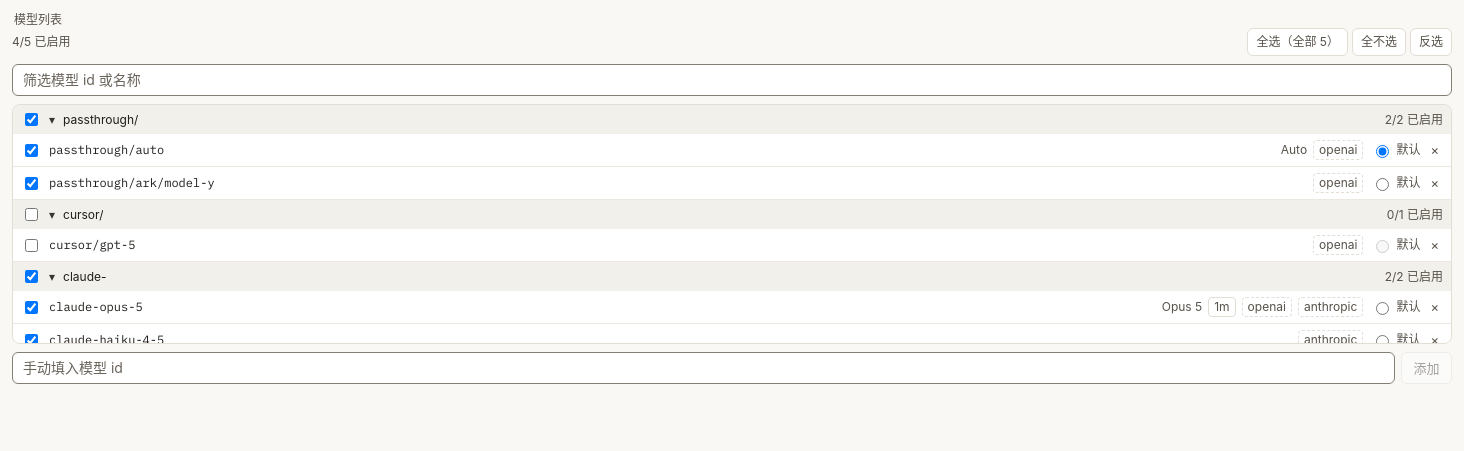
Scenario: ModelList bulk controls › disables a bulk button that would change nothing
Click the button with test id "provider-models-all".
click(1298, 42)  # box [1247,28,1348,56]
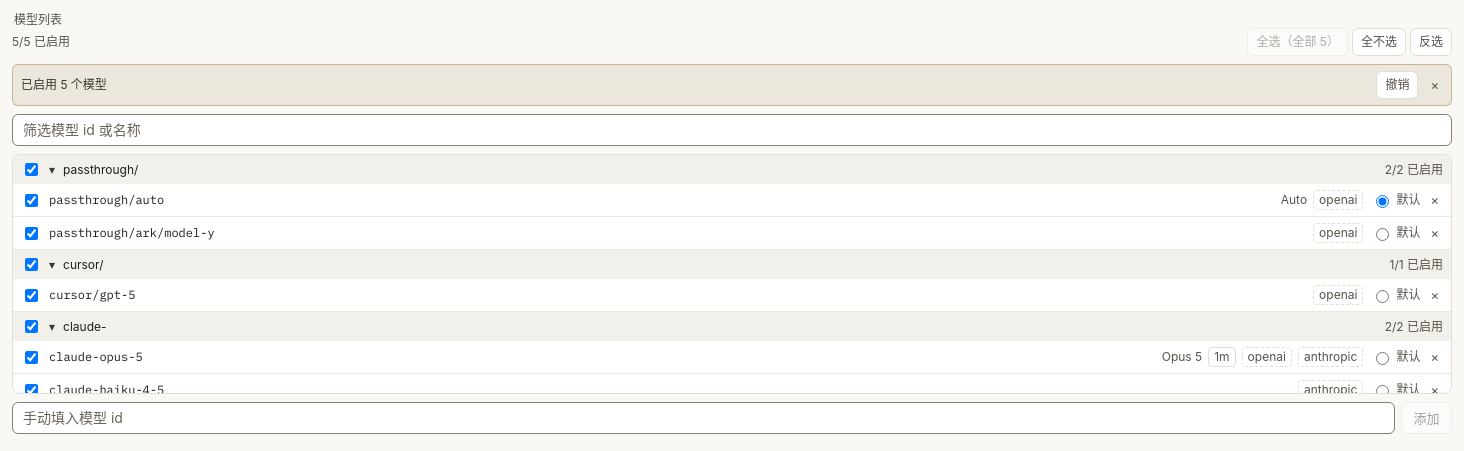
Expected: the button with test id "provider-models-none" is enabled, [1352,28,1406,56]
Result: the button with test id "provider-models-all" is disabled at [1247,28,1348,56]
# Nothing in view means nothing to act on.
Type "zzz" into the search field with test id "provider-model-search".
click(732, 130); type("zzz")  # box [12,114,1452,146]
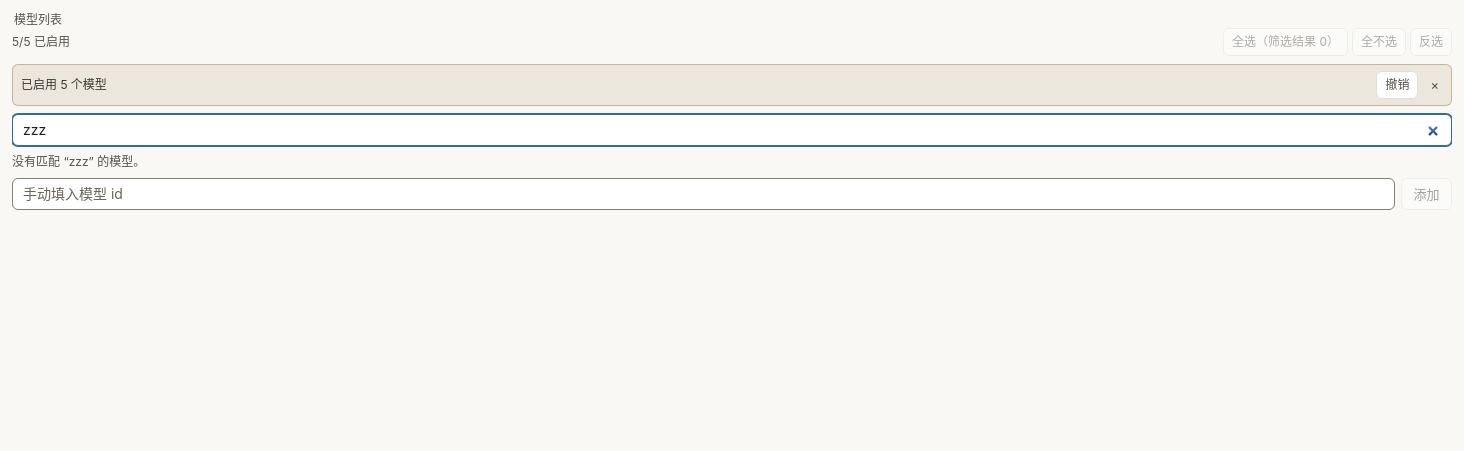
Result: the button with test id "provider-models-invert" is disabled at [1410,28,1452,56]
